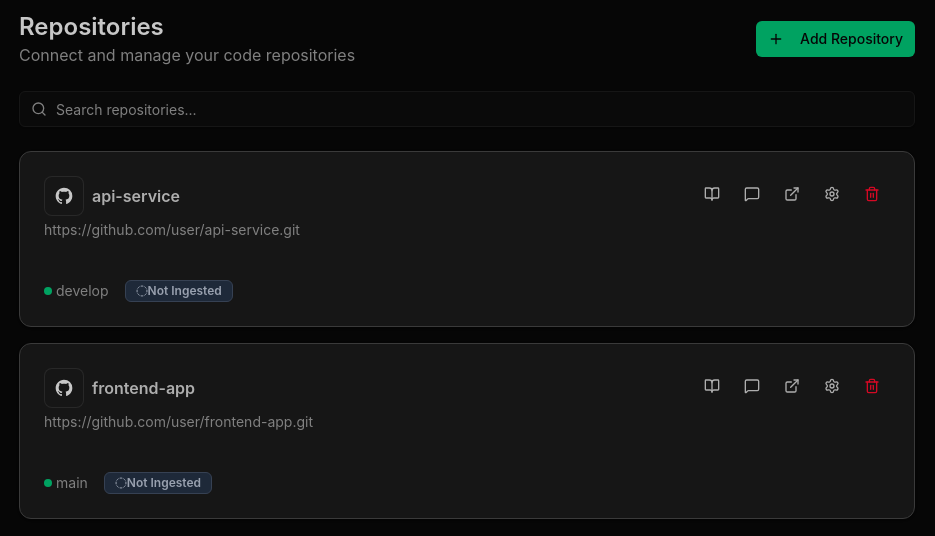
Scenario: ReposView › filters repositories by URL
Check: the text "frontend-app" is shown, box [92,376,195,400]
In the field labelled "Search repositories...": (467, 109) [19,91,915,127], type "api-service.git"
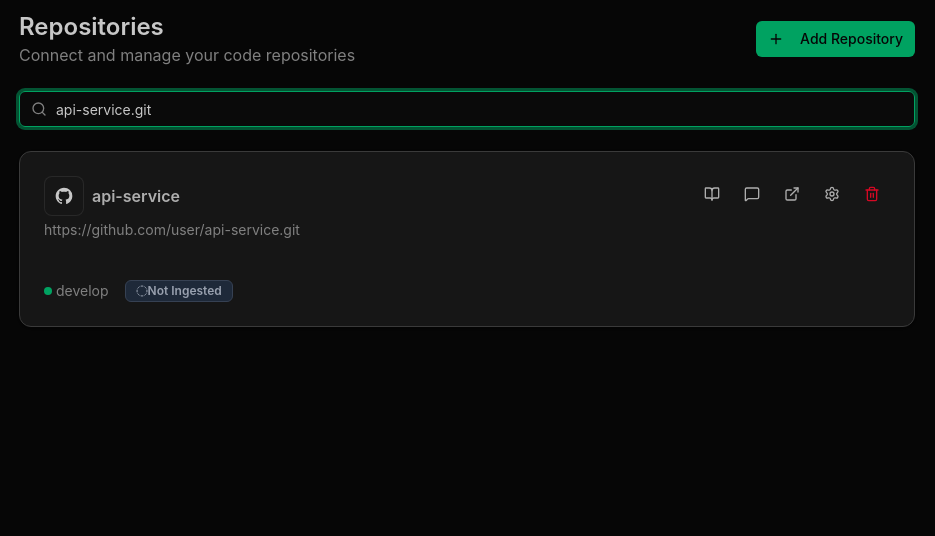
Check: the text "api-service" is shown, box [92,184,180,208]
Check: the text "frontend-app" is gone
